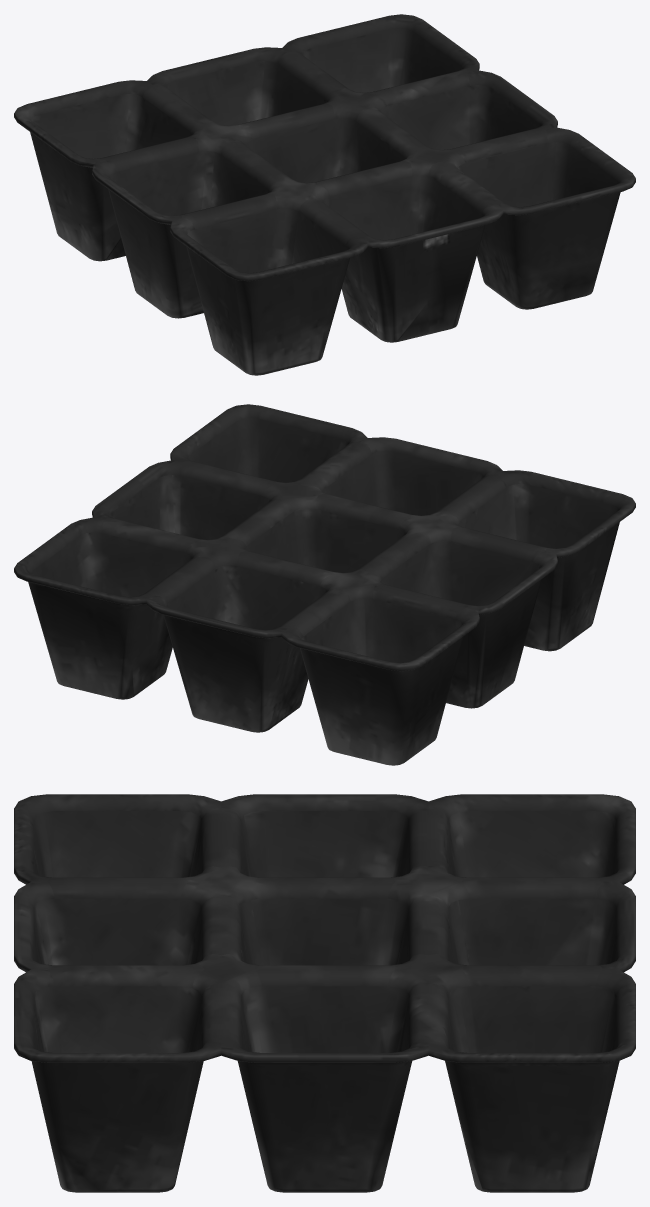
Rendered from seeding_tray_01.glb.
3 renders of one model, top to bottom at view 1: azimuth 30°, elevation 25°; view 2: azimuth 150°, elevation 25°; view 3: azimuth 270°, elevation 25°, orthographic. The views are drawn at different scales.
Parts seen in each view (by area): view 1: seeding_tray_01; view 2: seeding_tray_01; view 3: seeding_tray_01.
Boxes of the visible parts, <box> form: seeding_tray_01: <box>14,14,635,375</box>; seeding_tray_01: <box>14,404,635,765</box>; seeding_tray_01: <box>14,794,635,1192</box>.
Size of the model in its own units: 0.2202 by 0.0608 by 0.2202.
1 material, 1 textured.
